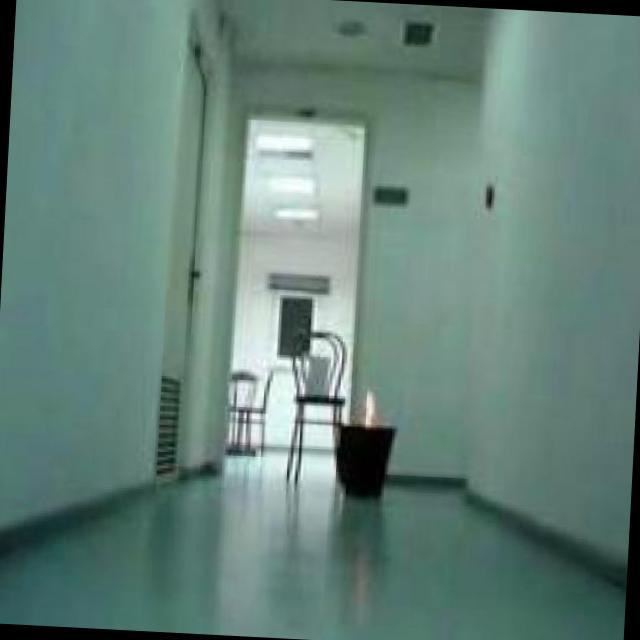Fire: (359, 383, 384, 428)
